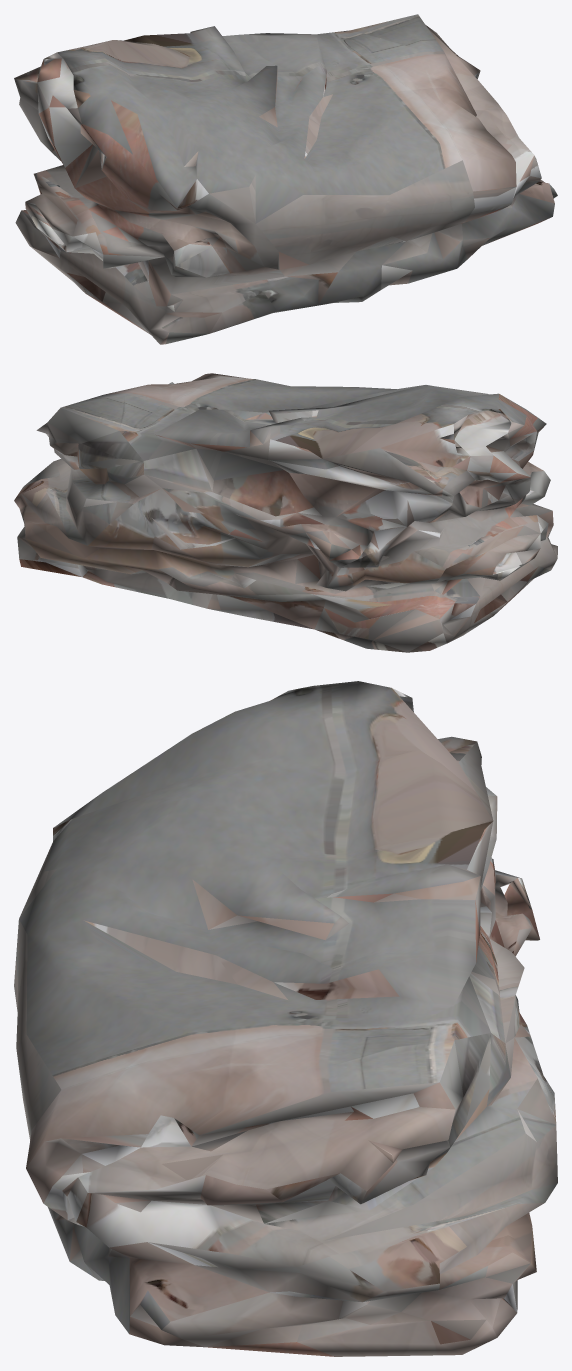
File: male_jeans.fbx
The picture shows the model from 3 angles, top to bottom: view 1: azimuth 30°, elevation 25°; view 2: azimuth 150°, elevation 25°; view 3: azimuth 270°, elevation 25°; orthographic projection. The views are drawn at different scales.
Visible parts, largest first — view 1: Mesh1_Mesh1.006; view 2: Mesh1_Mesh1.006; view 3: Mesh1_Mesh1.006.
Part boxes in pixels (x1,y1,x2,y2): Mesh1_Mesh1.006: [14, 14, 557, 344]; Mesh1_Mesh1.006: [14, 373, 557, 652]; Mesh1_Mesh1.006: [14, 681, 557, 1356].
Size of the model in its own units: 200 by 92.98 by 126.
